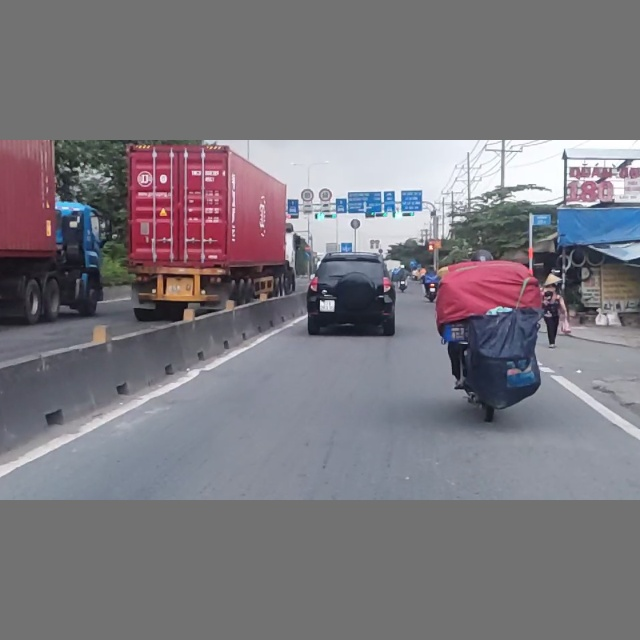P.102: (304, 245, 311, 251)
P.127*60: (318, 188, 333, 203)
P.127*80: (301, 189, 314, 202)
R.302a: (304, 252, 311, 258)
